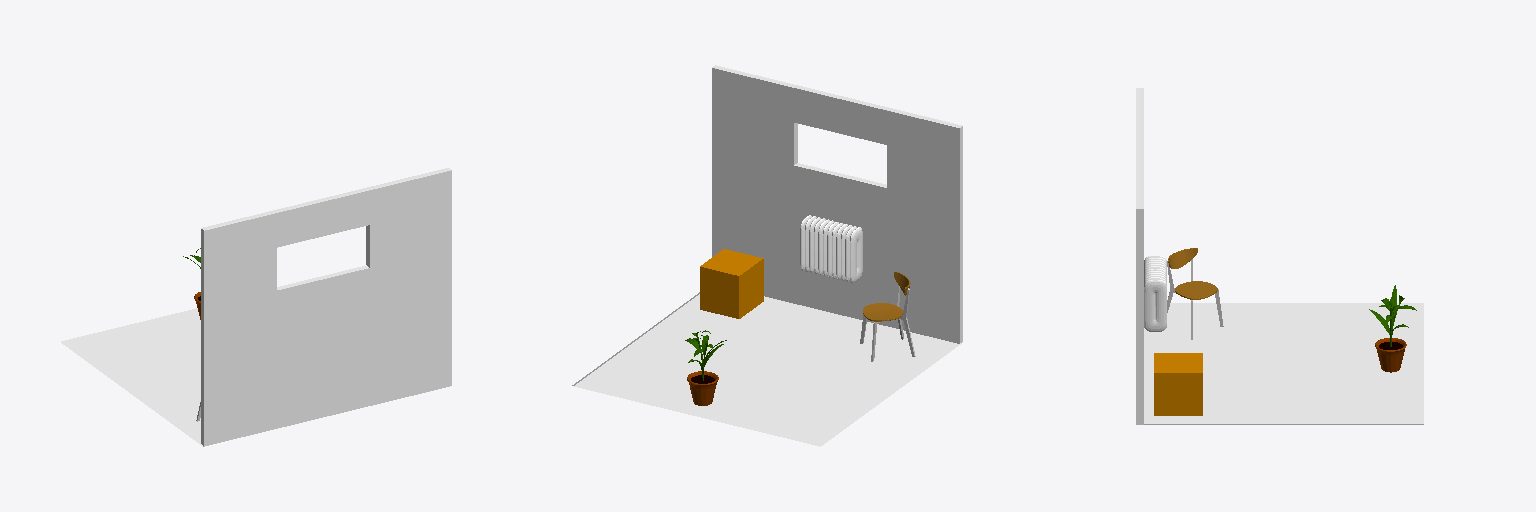
File: PatioDerecha.obj
3 views of the same model, side by side, from view 1: azimuth 30°, elevation 25°; view 2: azimuth 150°, elevation 25°; view 3: azimuth 270°, elevation 25° (orthographic).
Visible parts, largest first — view 1: wall_1_5, room_2_8; view 2: wall_1_4, room_2_8, back_64, left_62, top_61, Pot_16_33, Tube_12_50, Seat_39, Feet_41; view 3: room_2_8, right_63, Tube_1_43, top_61, wall_1_4, wall_1_5, Pot_16_33, Seat_39.
Boxes of the visible parts, x1,y1,x2,y2 form: wall_1_5: [203, 170, 451, 446]; room_2_8: [61, 308, 202, 445]; wall_1_4: [712, 68, 960, 343]; room_2_8: [574, 294, 962, 446]; back_64: [700, 267, 738, 318]; left_62: [739, 259, 763, 318]; top_61: [700, 249, 763, 275]; Pot_16_33: [687, 371, 718, 405]; Tube_12_50: [850, 227, 862, 282]; Seat_39: [863, 303, 902, 321]; Feet_41: [860, 285, 914, 361]; room_2_8: [1144, 303, 1423, 423]; right_63: [1154, 373, 1202, 415]; Tube_1_43: [1144, 280, 1166, 331]; top_61: [1154, 353, 1202, 372]; wall_1_4: [1140, 209, 1143, 424]; wall_1_5: [1136, 209, 1139, 424]; Pot_16_33: [1375, 338, 1406, 372]; Seat_39: [1175, 281, 1217, 299].
Size of the model in its own units: 302 by 250 by 301.